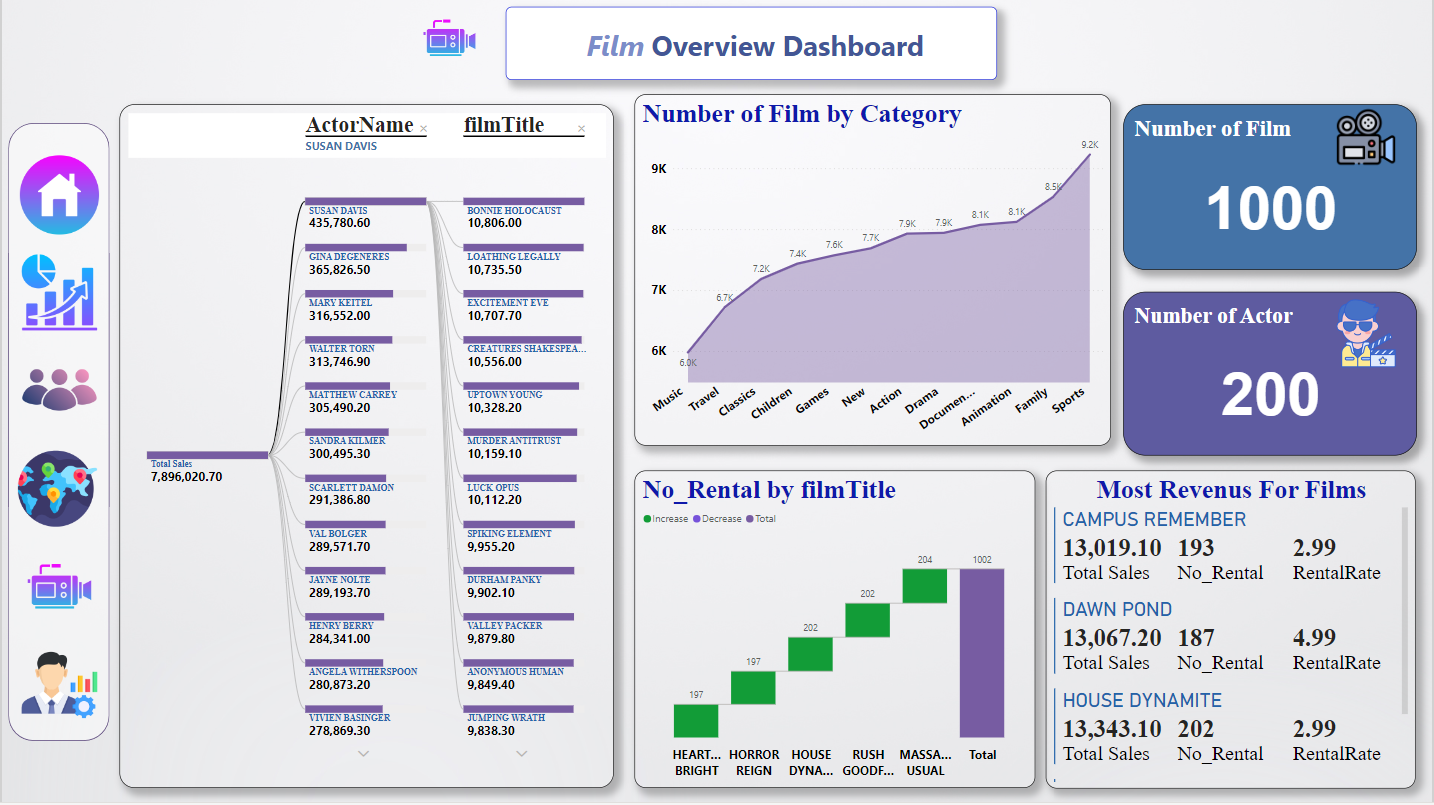

Layout of this report page (visuals, bound fields, positions):
{"tool":"tableau","page":{"name":"Film","canvas":[1920,1080],"ordinal":2},"visuals":[{"type":"image","param":"D:/ITI intensive code camp/Graduation Project/Sakila/Tableau/navigation bar 3 sh","box":[8,8,1904,1064]},{"type":"dashboard-object","box":[734,823,185,123]},{"type":"dashboard-object","box":[1017,828,180,123]},{"type":"dashboard-object","box":[1298,828,180,123]},{"type":"dashboard-object","box":[1579,828,180,123]},{"type":"dashboard-object","box":[455,830,180,123]},{"type":"dashboard-object","box":[178,834,175,122]}]}

Visuals, with their boxes in screenshot pixels (x1, y1, x2, y2), scaled from the page's 1920x1080 canvas onto the 1434x805 screenshot:
image: [left=6, top=6, right=1428, bottom=799]
dashboard-object: [left=548, top=613, right=686, bottom=705]
dashboard-object: [left=760, top=617, right=894, bottom=709]
dashboard-object: [left=969, top=617, right=1104, bottom=709]
dashboard-object: [left=1179, top=617, right=1314, bottom=709]
dashboard-object: [left=340, top=619, right=474, bottom=710]
dashboard-object: [left=133, top=622, right=264, bottom=713]
